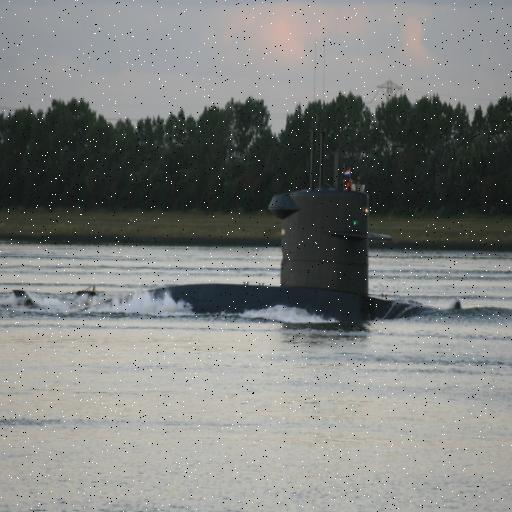submarine: (20, 189, 466, 310)
